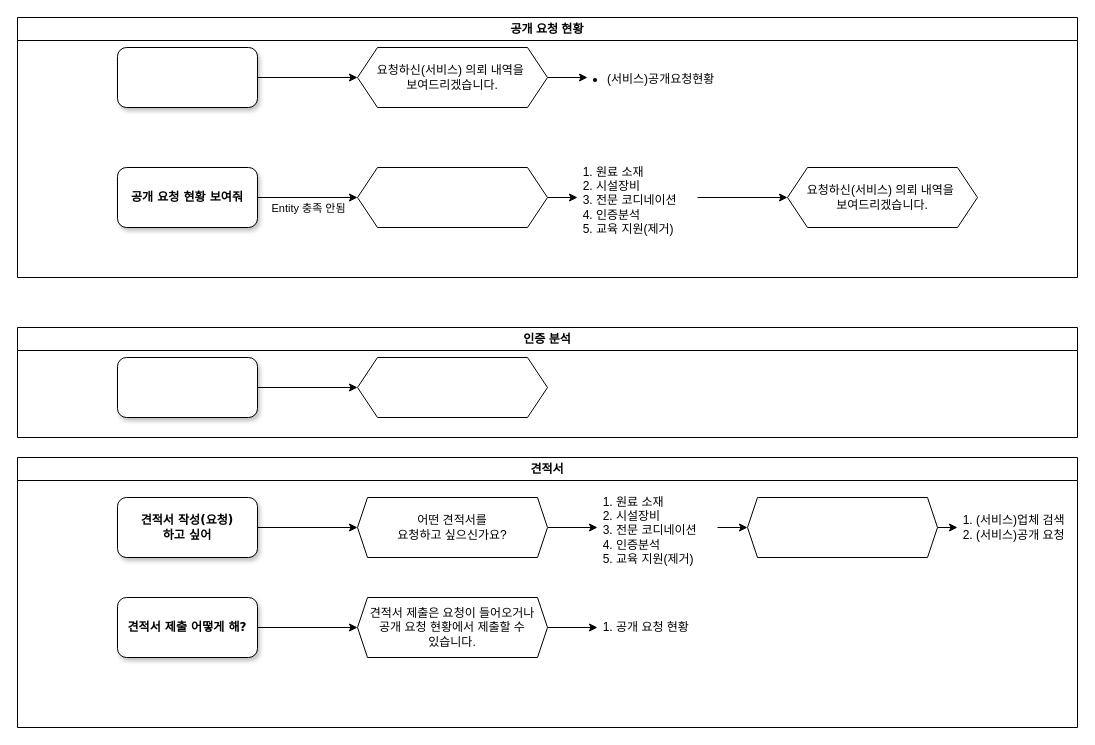
Some shapes in this 1095 by 745 pixel diagram are drawn without their labels. The centre of each missing label's shape, as x and y in pixels:
"(서비스) 공개 요청 현황 보여줘" goes at pixel 188 78.
"견적서 요청은 업체를 지정하여 작성하실 수 있고, 공개 요청 하실 수 있습니다." goes at pixel 842 527.
"어떤 공개요청 현황을 보고 싶으신가요?" goes at pixel 452 197.
"인증 분석 내역 보여줘" goes at pixel 188 388.
"인증 분석 의뢰 내역 보여 드리겠습니다." goes at pixel 452 387.
